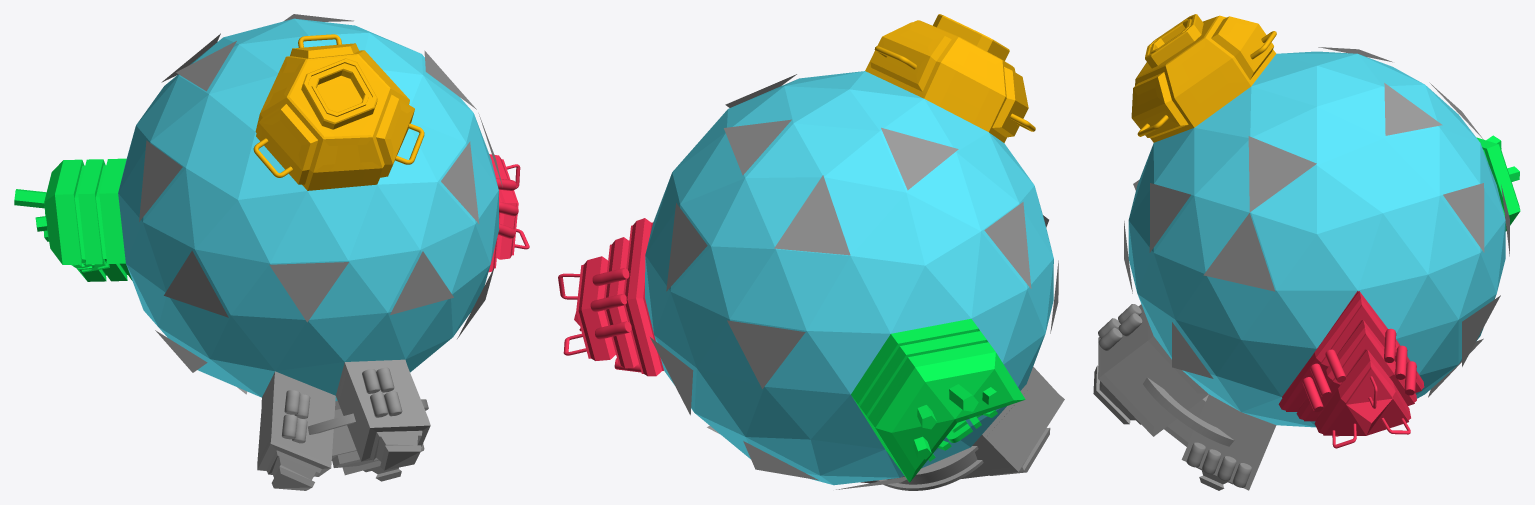
File: planet_A_all_txt.FBX
3 renders of one model, left to right at view 1: azimuth 30°, elevation 25°; view 2: azimuth 150°, elevation 25°; view 3: azimuth 270°, elevation 25°, orthographic. The views are drawn at different scales.
Visible parts, largest first — view 1: SM_Planet, SM_FruitStock, SM_LegumeStock, SM_PlanTriangles, SM_SellBank, SM_GrainShop; view 2: SM_Planet, SM_PlanTriangles, SM_SellBank, SM_FruitStock, SM_GrainShop, SM_LegumeStock; view 3: SM_Planet, SM_LegumeStock, SM_PlanTriangles, SM_GrainShop, SM_FruitStock, SM_SellBank.
Boxes of the visible parts, x1,y1,x2,y2 form: SM_Planet: (118, 18, 499, 401); SM_FruitStock: (253, 34, 424, 190); SM_LegumeStock: (257, 359, 430, 490); SM_PlanTriangles: (139, 14, 502, 394); SM_SellBank: (14, 158, 132, 281); SM_GrainShop: (488, 154, 529, 272); SM_Planet: (645, 71, 1053, 485); SM_PlanTriangles: (650, 74, 1058, 489); SM_SellBank: (851, 318, 1025, 482); SM_FruitStock: (865, 14, 1035, 142); SM_GrainShop: (558, 218, 663, 376); SM_LegumeStock: (861, 366, 1064, 490); SM_Planet: (1128, 51, 1505, 427); SM_LegumeStock: (1093, 304, 1276, 490); SM_PlanTriangles: (1124, 47, 1509, 397); SM_GrainShop: (1278, 291, 1424, 448); SM_FruitStock: (1131, 14, 1276, 142); SM_SellBank: (1476, 135, 1520, 231).
Bounding box in the file's own units: 229 × 215 × 191.
